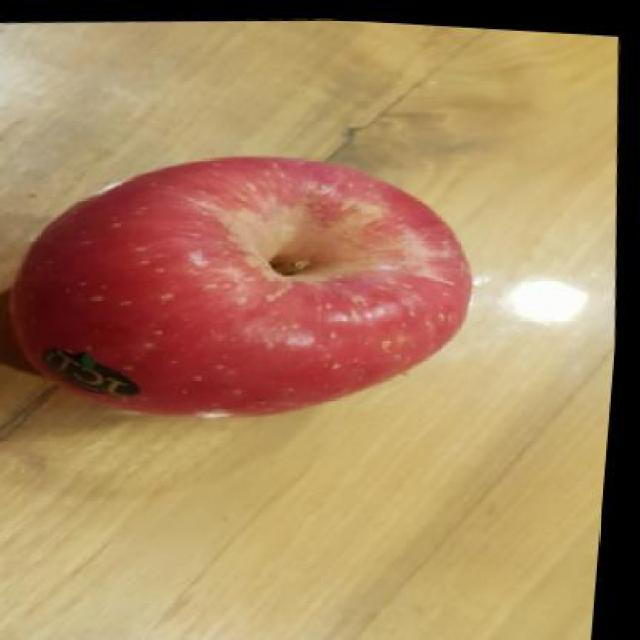Fresh Apple: (20, 159, 465, 415)
